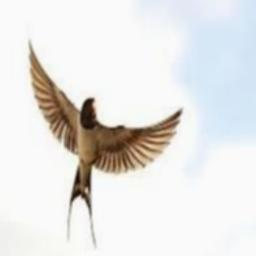Swallow: (27, 39, 182, 250)
